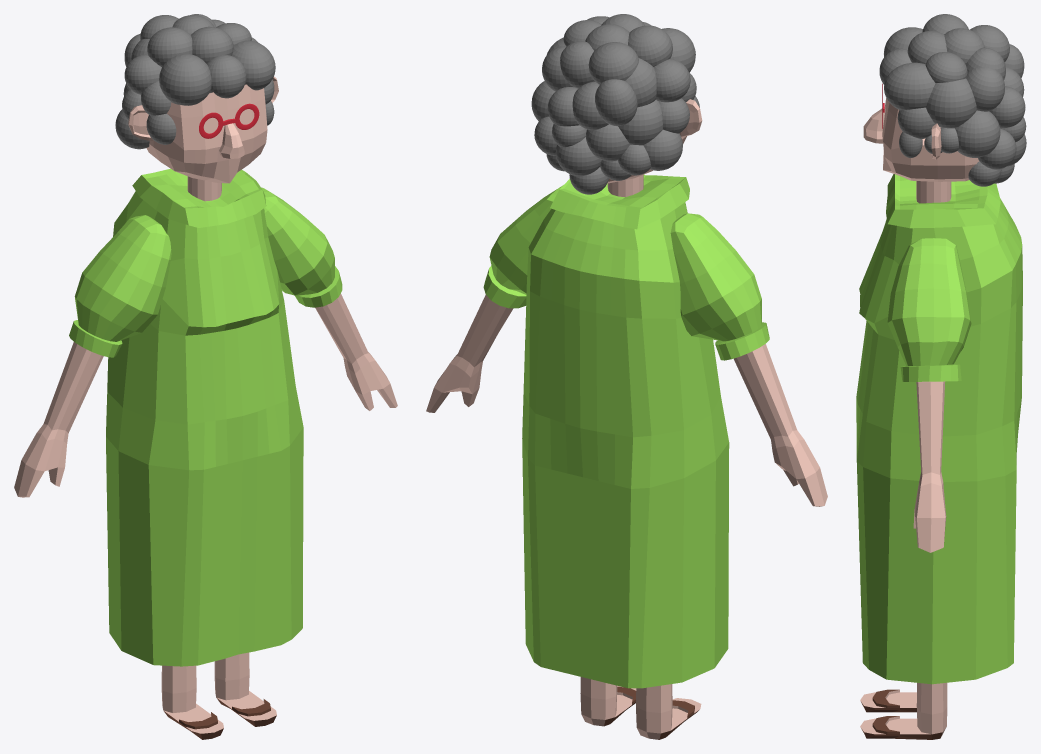
Rendered from abuela.fbx.
The picture shows the model from 3 angles, left to right: view 1: azimuth 30°, elevation 25°; view 2: azimuth 150°, elevation 25°; view 3: azimuth 270°, elevation 25°; orthographic projection. The views are drawn at different scales.
Parts seen in each view (by area): view 1: Vieja; view 2: Vieja; view 3: Vieja.
Boxes of the visible parts, <box> form: Vieja: <box>14,14,397,739</box>; Vieja: <box>426,14,827,739</box>; Vieja: <box>856,14,1026,739</box>.
Size of the model in its own units: 230 by 396 by 88.35.
